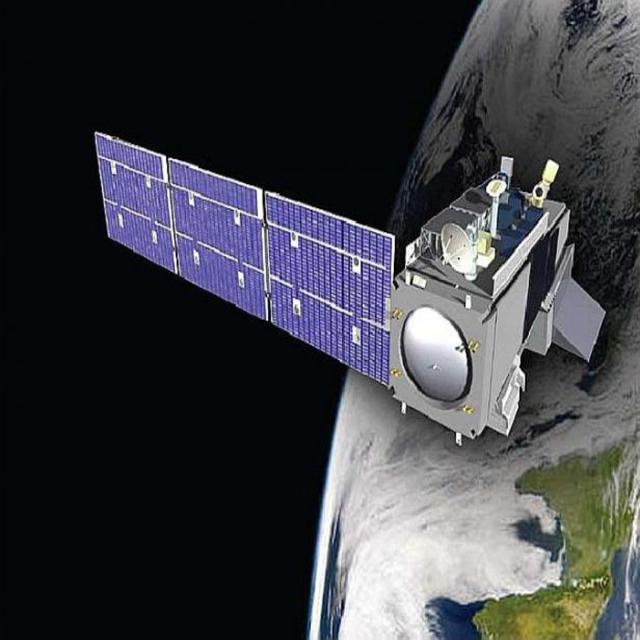satellite: (90, 116, 617, 452)
